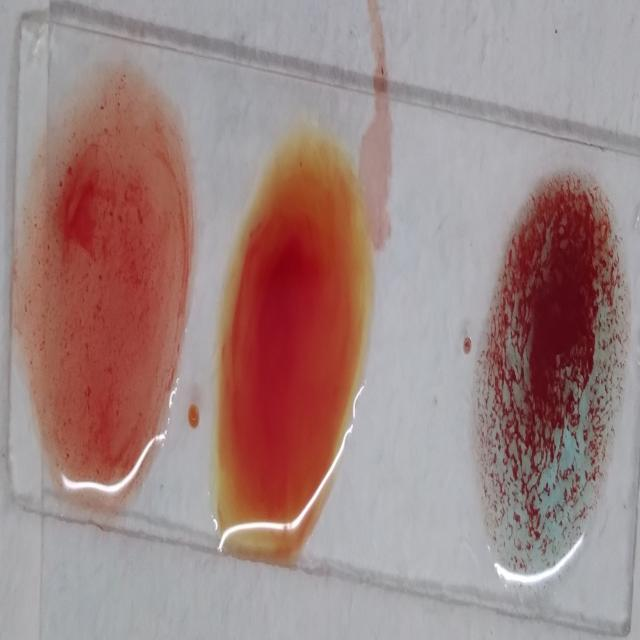A: (484, 163, 627, 582)
D: (8, 44, 184, 508)
